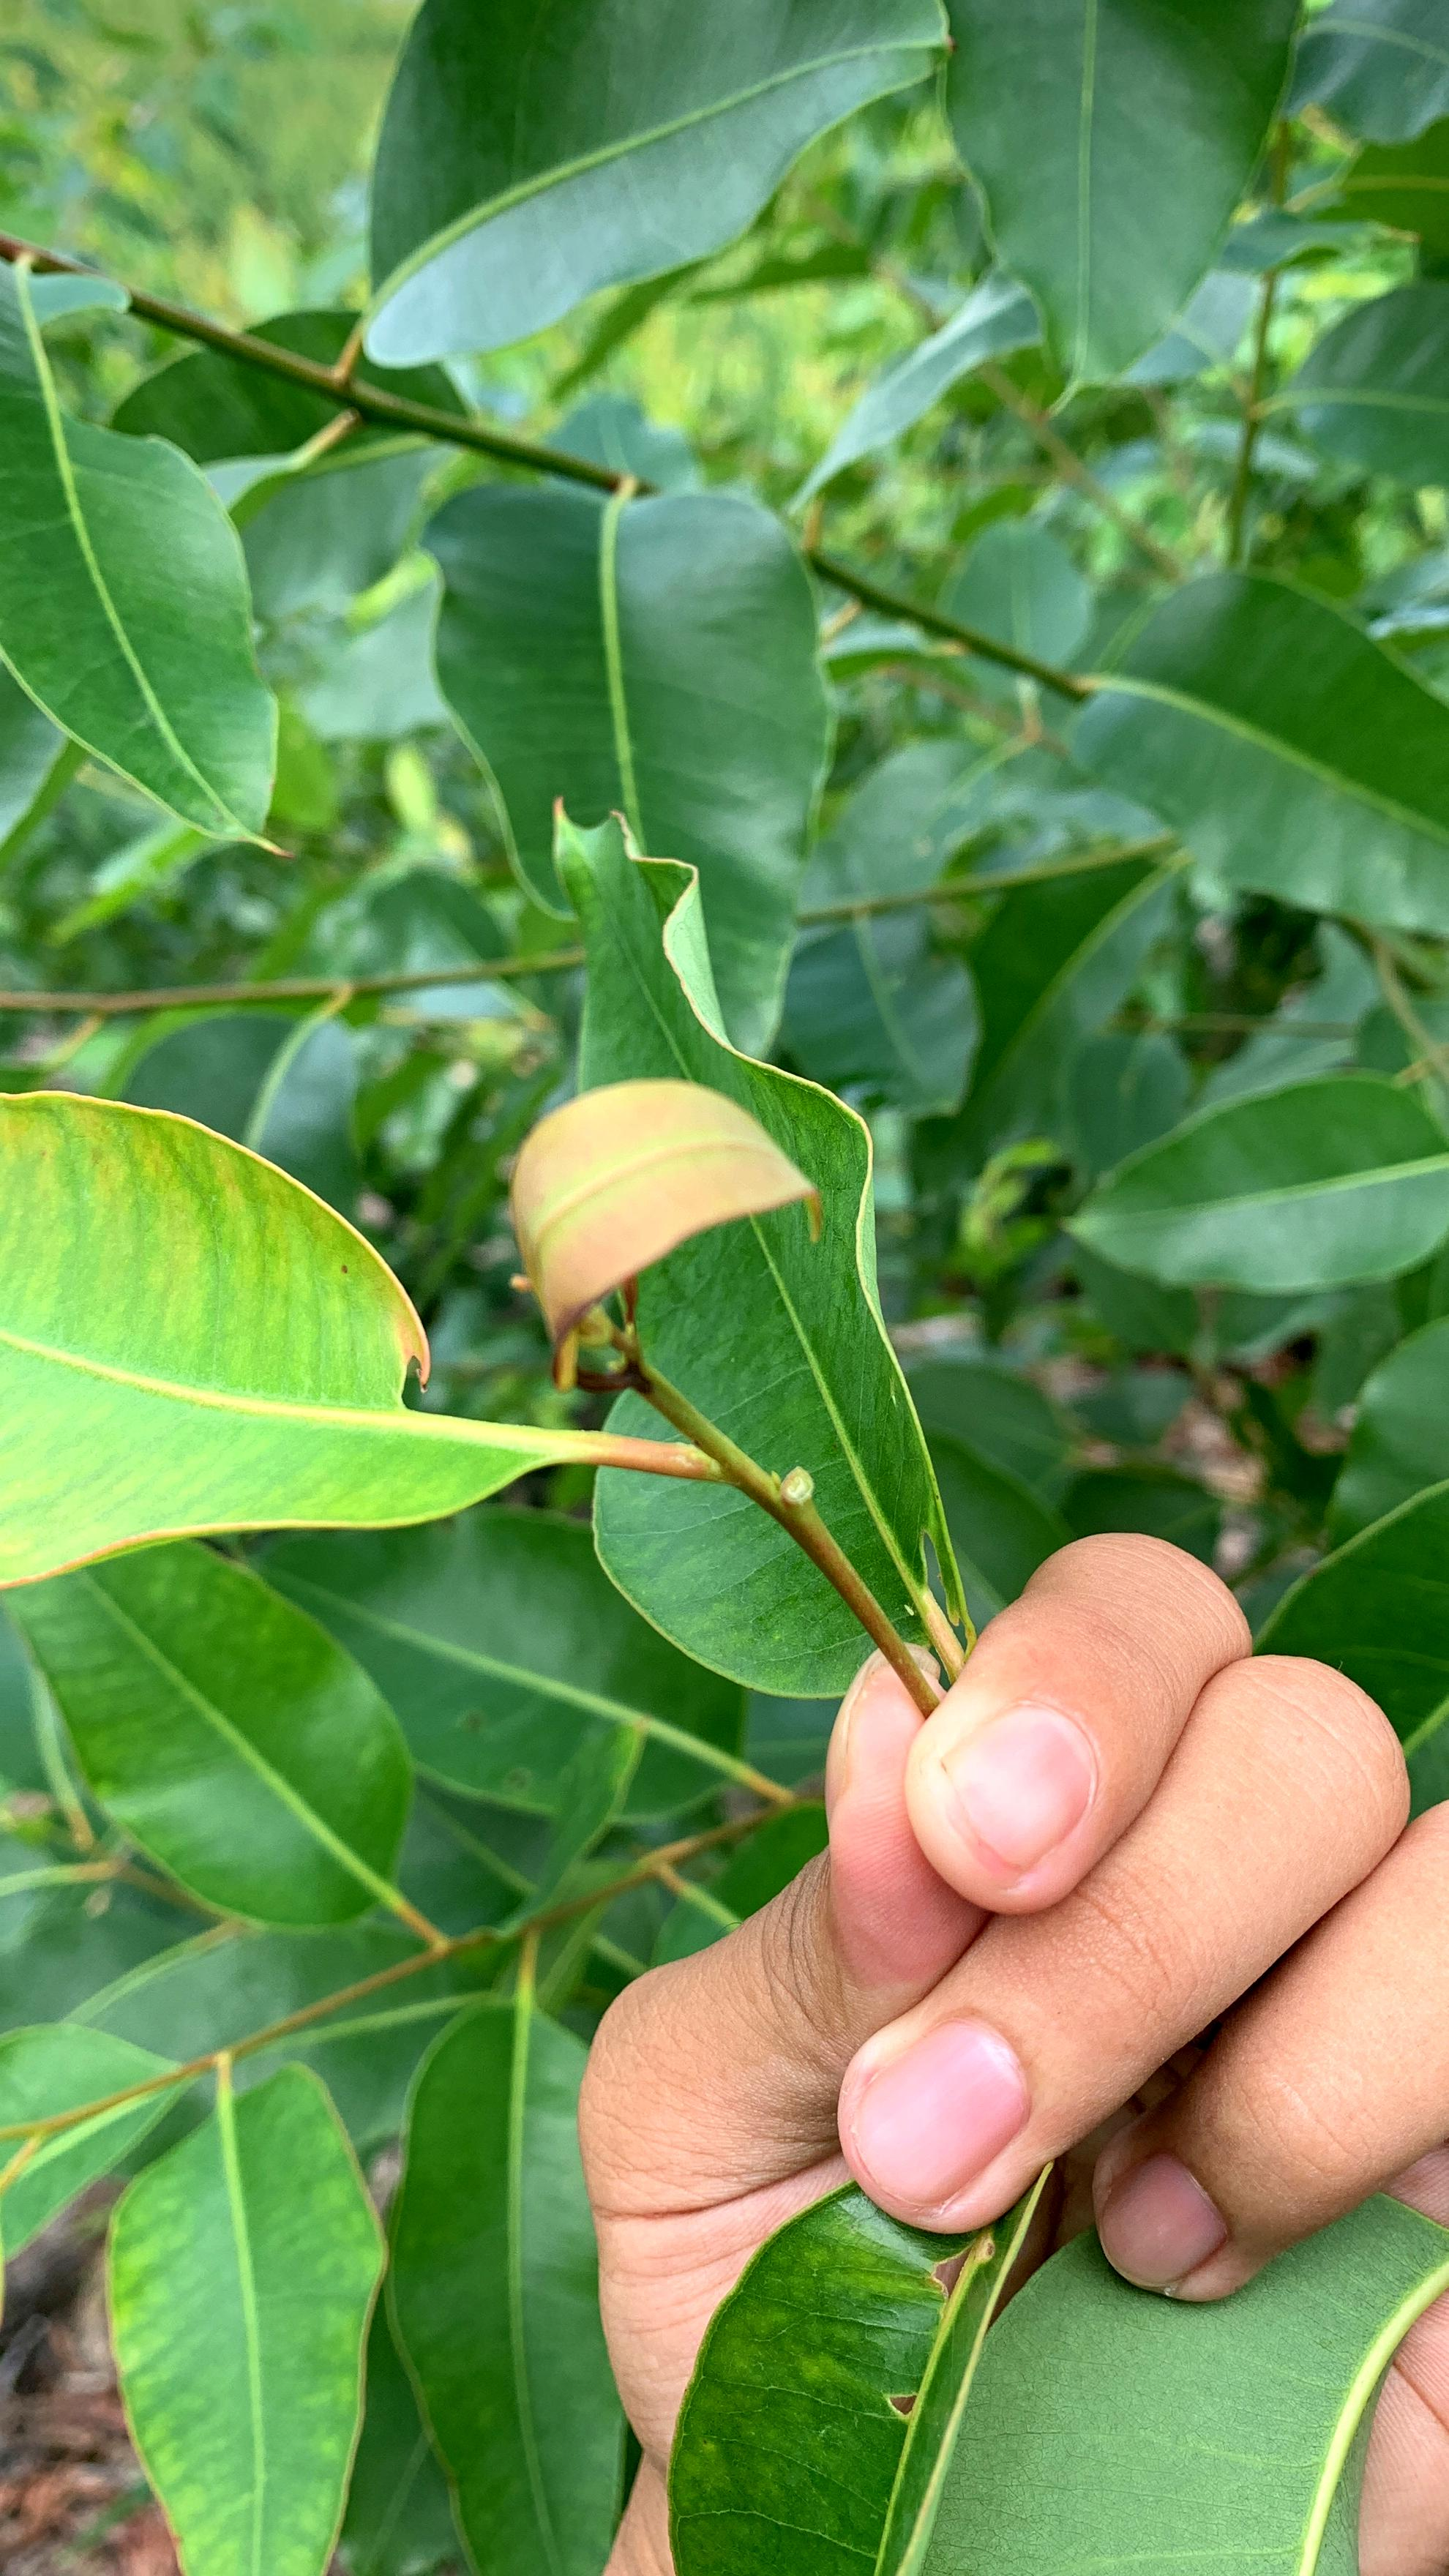Helopeltis-Withered Sprout: (498, 1080, 837, 1375)
